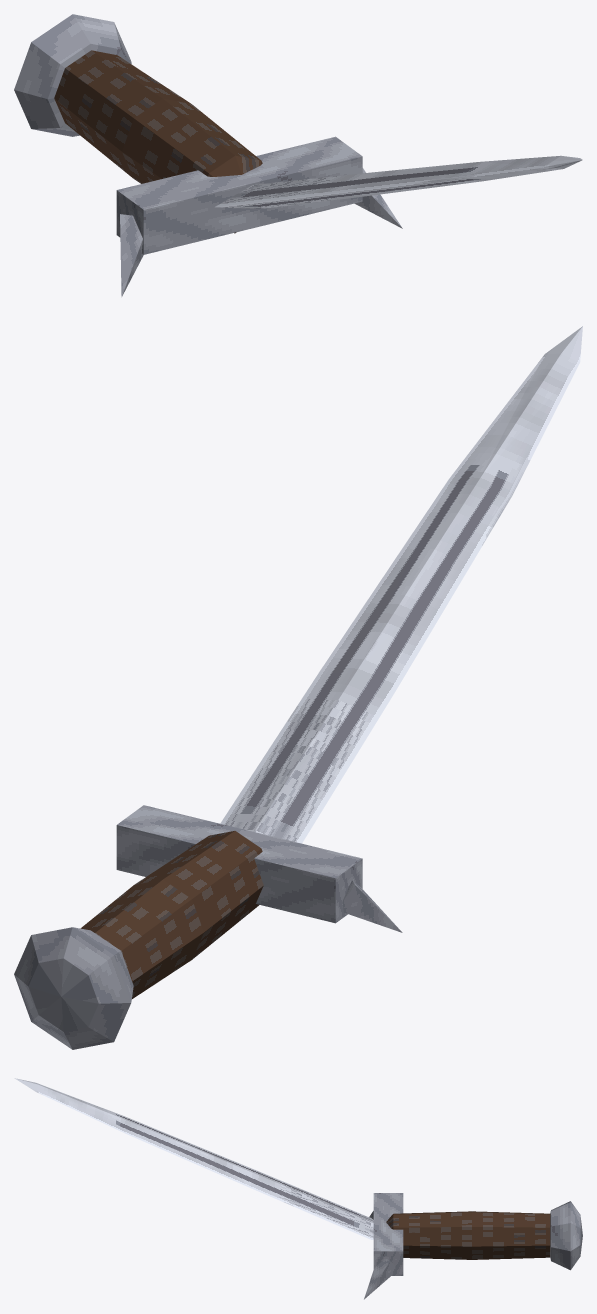
File: klinge_v2.glb
3 renders of one model, top to bottom at view 1: azimuth 30°, elevation 25°; view 2: azimuth 150°, elevation 25°; view 3: azimuth 270°, elevation 25°, orthographic. The views are drawn at different scales.
Visible parts, largest first — view 1: sword; view 2: sword; view 3: sword.
Part boxes in pixels (x1=…): sword: x1=14, y1=14, x2=582, y2=296; sword: x1=14, y1=326, x2=582, y2=1049; sword: x1=14, y1=1078, x2=582, y2=1299.
Size of the model in its own units: 0.072 by 0.0856 by 0.231.
Materials: 1 (1 with a texture image).
